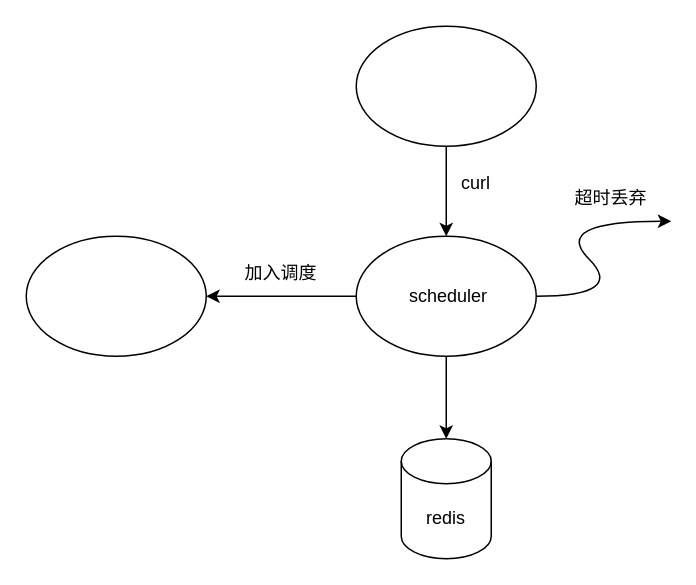
The diagram is 696 pixels wide and 585 high, and some of its shapes have lost their labels. Each missing label, with the centre of its shape:
JobManager: point 115,295
客户端: point 445,85
